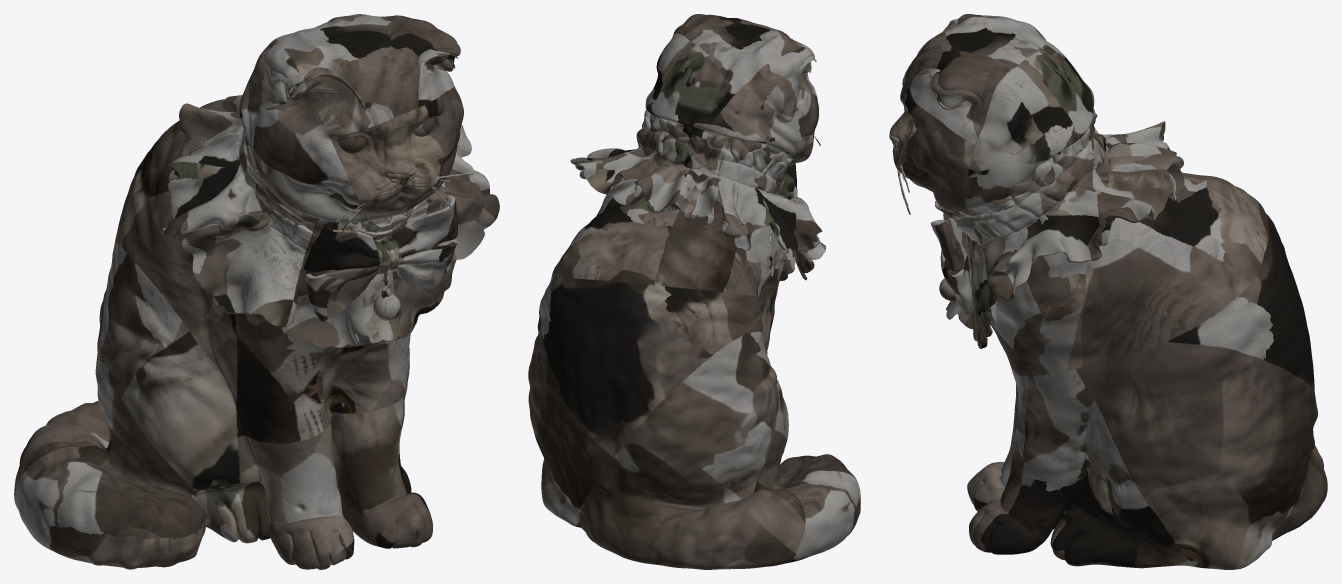
The model's file is cat1.glb.
The picture shows the model from 3 angles, left to right: view 1: azimuth 30°, elevation 25°; view 2: azimuth 150°, elevation 25°; view 3: azimuth 270°, elevation 25°; orthographic projection. The views are drawn at different scales.
Visible parts, largest first — view 1: geometry_0; view 2: geometry_0; view 3: geometry_0.
Part boxes in pixels (left/top/right/bottom): geometry_0: left=14, top=14, right=499, bottom=569; geometry_0: left=528, top=14, right=860, bottom=569; geometry_0: left=889, top=14, right=1327, bottom=569.
Size of the model in its own units: 0.2182 by 0.2935 by 0.2397.
1 material, 1 textured.
